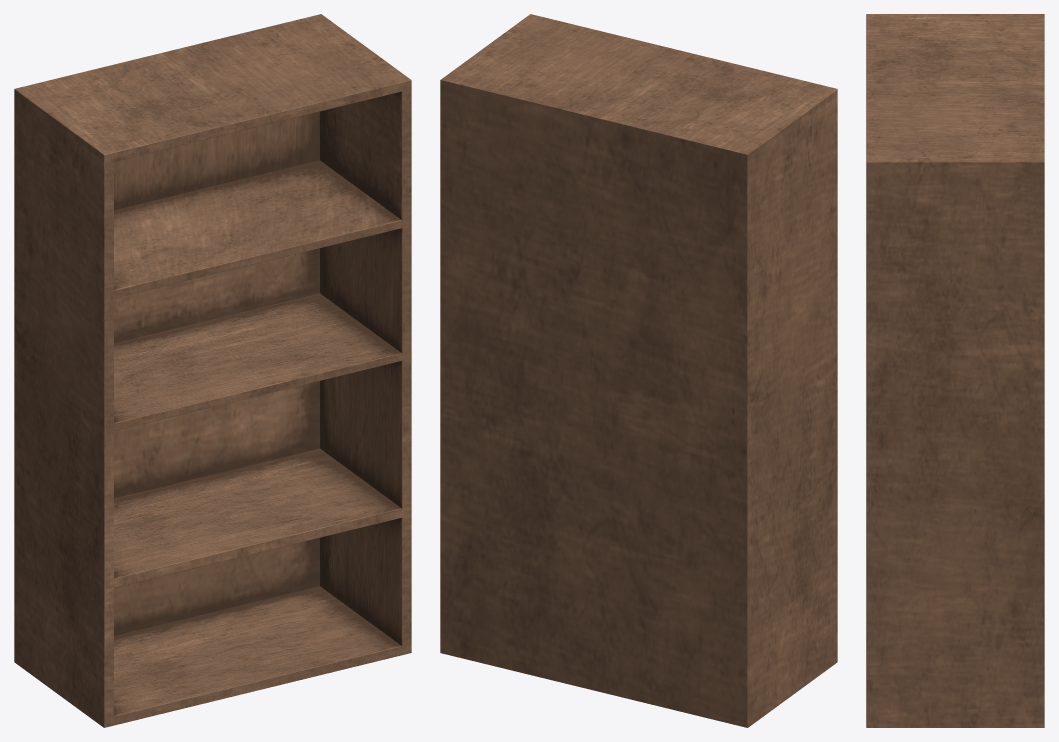
File: bookshelf.glb
3 renders of one model, left to right at view 1: azimuth 30°, elevation 25°; view 2: azimuth 150°, elevation 25°; view 3: azimuth 270°, elevation 25°, orthographic.
Parts seen in each view (by area): view 1: Object_2; view 2: Object_2; view 3: Object_2.
Part boxes in pixels (box(x1,y1,x2,y2)): Object_2: box(14, 14, 411, 727); Object_2: box(440, 14, 837, 727); Object_2: box(866, 14, 1044, 727).
Size of the model in its own units: 119 by 213 by 60.65.
Materials: 1 (1 with a texture image).
